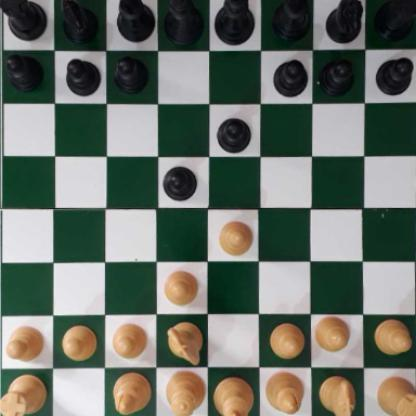black-bishop: (271, 0, 311, 41), (116, 0, 155, 41)
black-king: (216, 0, 255, 46)
black-knight: (60, 0, 99, 44), (326, 0, 362, 44)
black-pawn: (375, 55, 413, 95), (5, 53, 43, 91), (65, 56, 100, 95), (217, 114, 252, 152), (320, 56, 354, 94), (273, 57, 307, 95), (114, 55, 147, 92), (162, 165, 196, 200)
black-queen: (162, 0, 205, 43)
black-rook: (0, 0, 48, 39), (374, 0, 416, 40)
white-bishop: (265, 371, 304, 416), (113, 371, 149, 416)
white-king: (215, 374, 250, 416)
white-knight: (167, 320, 204, 364), (319, 374, 355, 416)
white-pawn: (3, 324, 45, 361), (162, 268, 199, 306), (110, 321, 147, 359), (374, 319, 413, 354), (268, 322, 303, 359), (315, 315, 350, 352), (217, 219, 252, 256), (61, 324, 96, 359)
white-queen: (162, 370, 208, 416)
white-rook: (0, 373, 48, 416), (376, 375, 416, 416)
